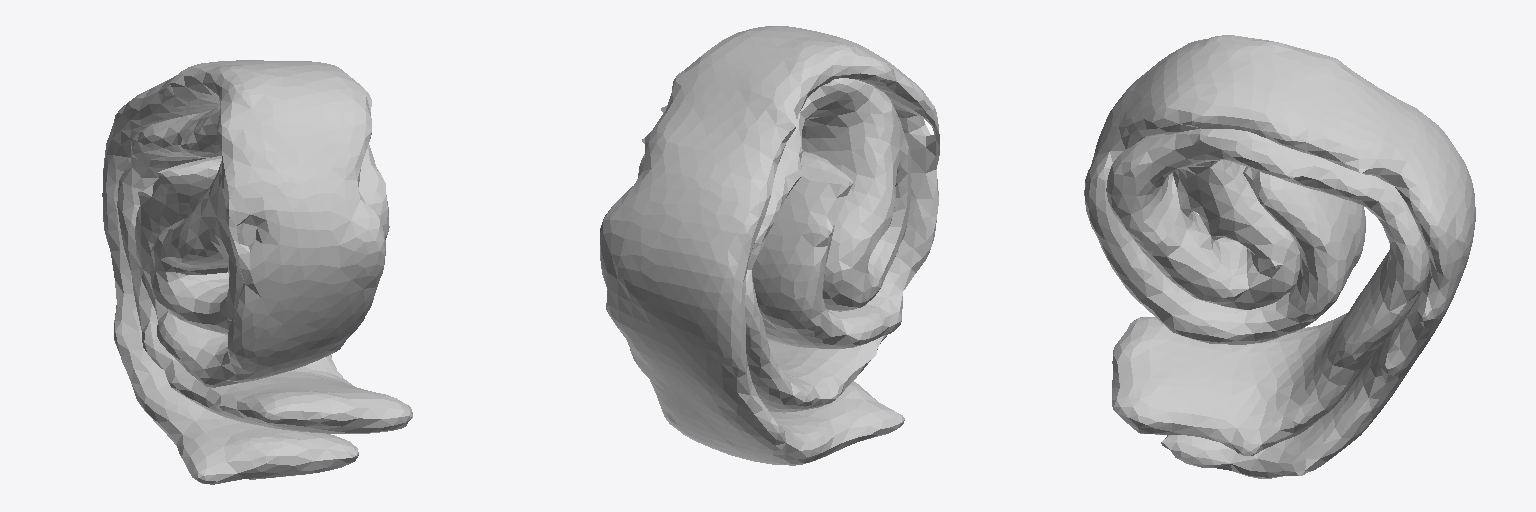
File: cake1.obj
3 views of the same model, side by side, from view 1: azimuth 30°, elevation 25°; view 2: azimuth 150°, elevation 25°; view 3: azimuth 270°, elevation 25° (orthographic).
Bounding box in the file's own units: 0.1723 × 0.3255 × 0.288.